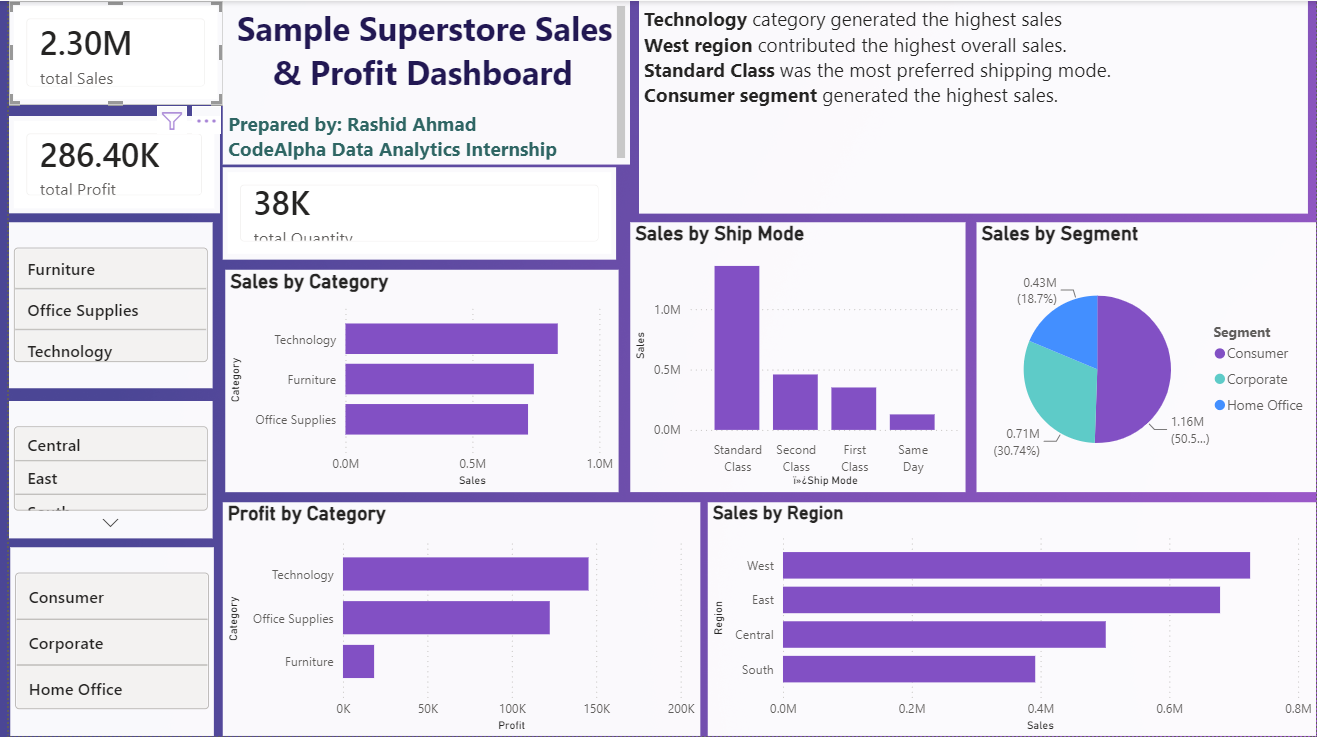

This screenshot's page, from the dashboard's own definition file:
{"tool":"powerbi","page":{"name":"Page 1","canvas":[1280,720],"ordinal":0},"visuals":[{"type":"cardVisual","fields":{"Data":["Sum(superstore_db sample_superstore.Profit)"]},"box":[0,112.5,206.7,95.4],"z":0},{"type":"cardVisual","fields":{"Data":["Sum(superstore_db sample_superstore.Sales)"]},"box":[0,0,209.1,101.5],"z":1000},{"type":"clusteredBarChart","fields":{"Category":["superstore_db sample_superstore.Category"],"Y":["Sum(superstore_db sample_superstore.Sales)"]},"box":[211.6,262.9,385.2,217.7],"z":2000},{"type":"barChart","fields":{"Category":["superstore_db sample_superstore.Category"],"Y":["Sum(superstore_db sample_superstore.Profit)"]},"box":[209.1,490.4,467.1,229.9],"z":3000},{"type":"pieChart","title":"Sales by Segment","fields":{"Category":["superstore_db sample_superstore.Segment"],"Y":["Sum(superstore_db sample_superstore.Sales)"]},"box":[946.5,216.4,333.8,264.1],"z":4000},{"type":"lineStackedColumnComboChart","title":"Sales by Ship Mode","fields":{"Category":["superstore_db sample_superstore.ï»¿Ship Mode"],"Y":["Sum(superstore_db sample_superstore.Sales)"]},"box":[607.7,216.4,327.7,264.1],"z":5000},{"type":"cardVisual","fields":{"Rows":["superstore_db sample_superstore.Category"]},"box":[0,216.4,199.3,162.6],"z":6000},{"type":"cardVisual","fields":{"Rows":["superstore_db sample_superstore.Region"]},"box":[0,391.3,199.3,134.5],"z":7000},{"type":"cardVisual","fields":{"Rows":["superstore_db sample_superstore.Segment"]},"box":[1.2,534.4,199.3,185.9],"z":8000},{"type":"cardVisual","fields":{"Data":["Sum(superstore_db sample_superstore.Quantity)"]},"box":[209.1,162.6,385.2,90.5],"z":9000},{"type":"clusteredBarChart","fields":{"Category":["superstore_db sample_superstore.Region"],"Y":["Sum(superstore_db sample_superstore.Sales)"]},"box":[683.6,490.4,596.7,229.9],"z":10000},{"type":"textbox","box":[209.1,0,398.6,160.2],"z":11000},{"type":"textbox","box":[616.3,0,654.2,207.9],"z":12000}]}

Visuals, with their boxes in screenshot pixels (x1, y1, x2, y2), scaled from the page's 1280x720 canvas onto the 1317x737 screenshot:
cardVisual - Sum(superstore_db sample_superstore.Profit): region(0, 115, 213, 213)
cardVisual - Sum(superstore_db sample_superstore.Sales): region(0, 0, 215, 104)
clusteredBarChart - superstore_db sample_superstore.Category x Sum(superstore_db sample_superstore.Sales): region(218, 269, 614, 492)
barChart - superstore_db sample_superstore.Category x Sum(superstore_db sample_superstore.Profit): region(215, 502, 696, 736)
"Sales by Segment" pieChart: region(974, 222, 1316, 492)
"Sales by Ship Mode" lineStackedColumnComboChart: region(625, 222, 962, 492)
cardVisual - superstore_db sample_superstore.Category: region(0, 222, 205, 388)
cardVisual - superstore_db sample_superstore.Region: region(0, 401, 205, 538)
cardVisual - superstore_db sample_superstore.Segment: region(1, 547, 206, 736)
cardVisual - Sum(superstore_db sample_superstore.Quantity): region(215, 166, 611, 259)
clusteredBarChart - superstore_db sample_superstore.Region x Sum(superstore_db sample_superstore.Sales): region(703, 502, 1316, 736)
textbox: region(215, 0, 625, 164)
textbox: region(634, 0, 1307, 213)
